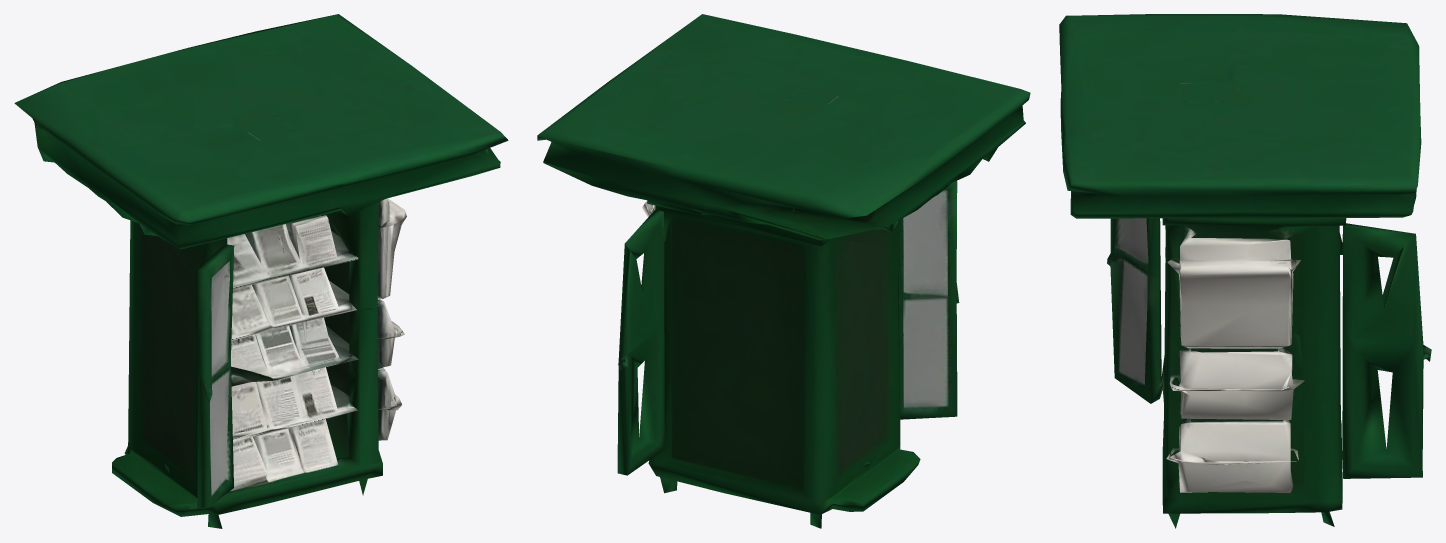
File: edicola.glb
3 views of the same model, side by side, from view 1: azimuth 30°, elevation 25°; view 2: azimuth 150°, elevation 25°; view 3: azimuth 270°, elevation 25° (orthographic). The views are drawn at different scales.
Parts seen in each view (by area): view 1: tripo_node_11e30052-1ca1-4711-a414-c8c6ea17132b; view 2: tripo_node_11e30052-1ca1-4711-a414-c8c6ea17132b; view 3: tripo_node_11e30052-1ca1-4711-a414-c8c6ea17132b.
Boxes of the visible parts, x1,y1,x2,y2 form: tripo_node_11e30052-1ca1-4711-a414-c8c6ea17132b: (14, 14, 508, 528); tripo_node_11e30052-1ca1-4711-a414-c8c6ea17132b: (537, 14, 1030, 528); tripo_node_11e30052-1ca1-4711-a414-c8c6ea17132b: (1059, 14, 1431, 528).
Size of the model in its own units: 2.62 by 2.8 by 2.4.
1 material, 1 textured.
